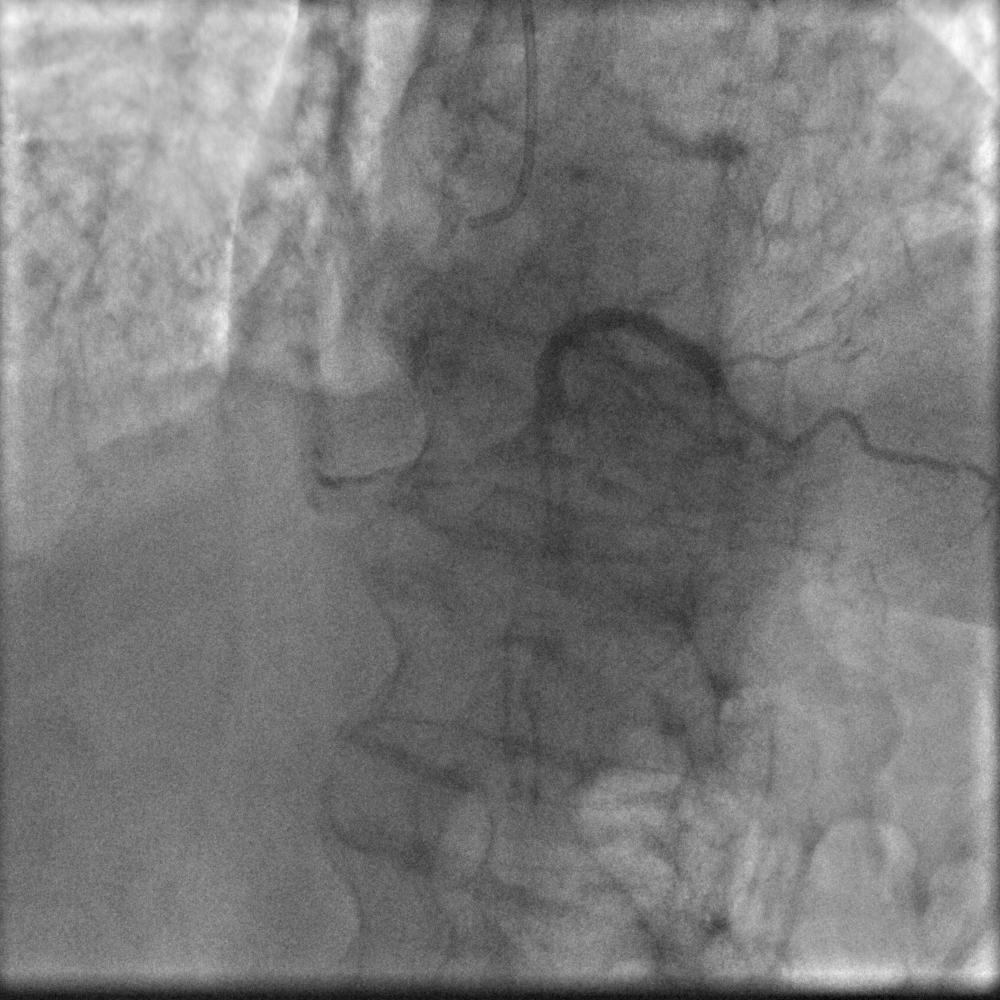Stenosis: (712, 350, 745, 436)
